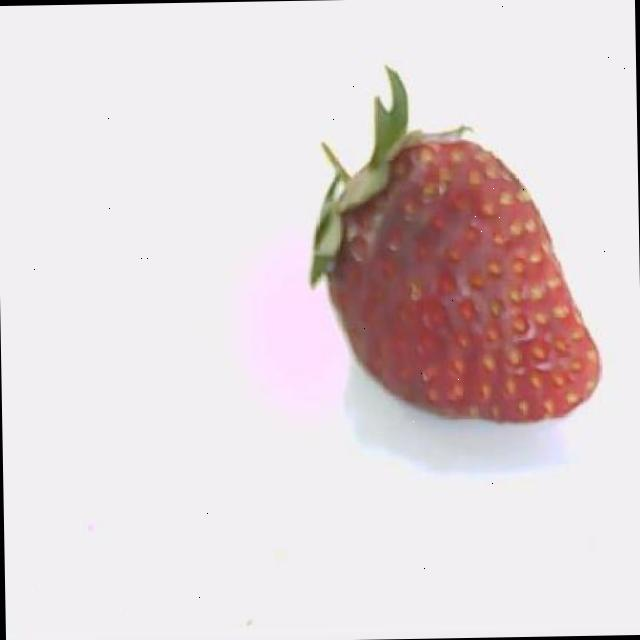strawberry: (311, 68, 599, 421)
